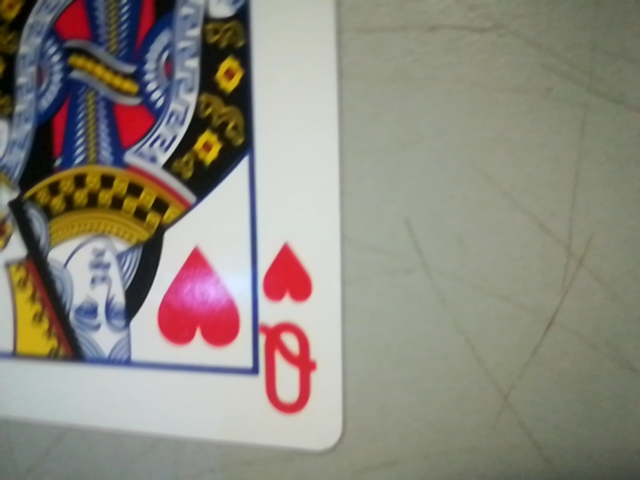hx q: (251, 233, 330, 429)
